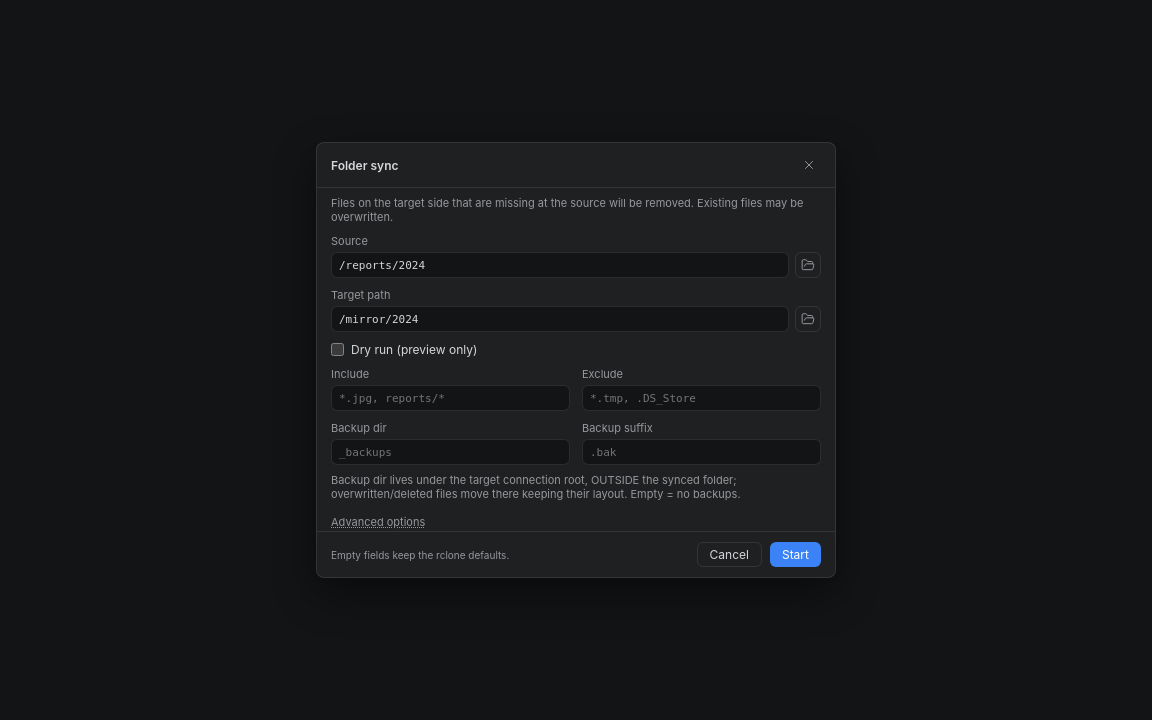
SyncDialog › picks source and target paths through the shared directory browser
The width and height of the screenshot is (1152, 720).
// 打开源字段选择器：内嵌浏览器出现，从源路径父目录起步（stub 不校验）。
Click the 1st button with class "wb-sync-browse" at (808,265), box [795,252,821,278]
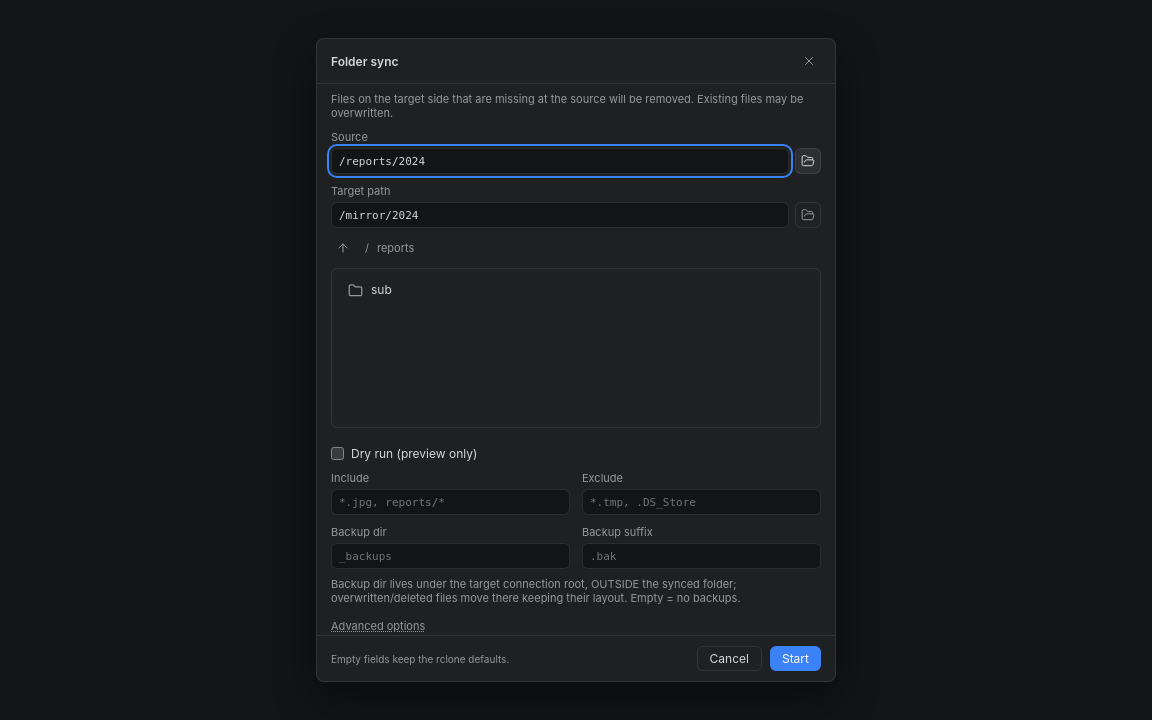
Expected: the element with class "wb-mount-list" is shown, [331,268,821,428]
Click the button with class "wb-mount-dir" at (356,290), box [338,275,814,305]
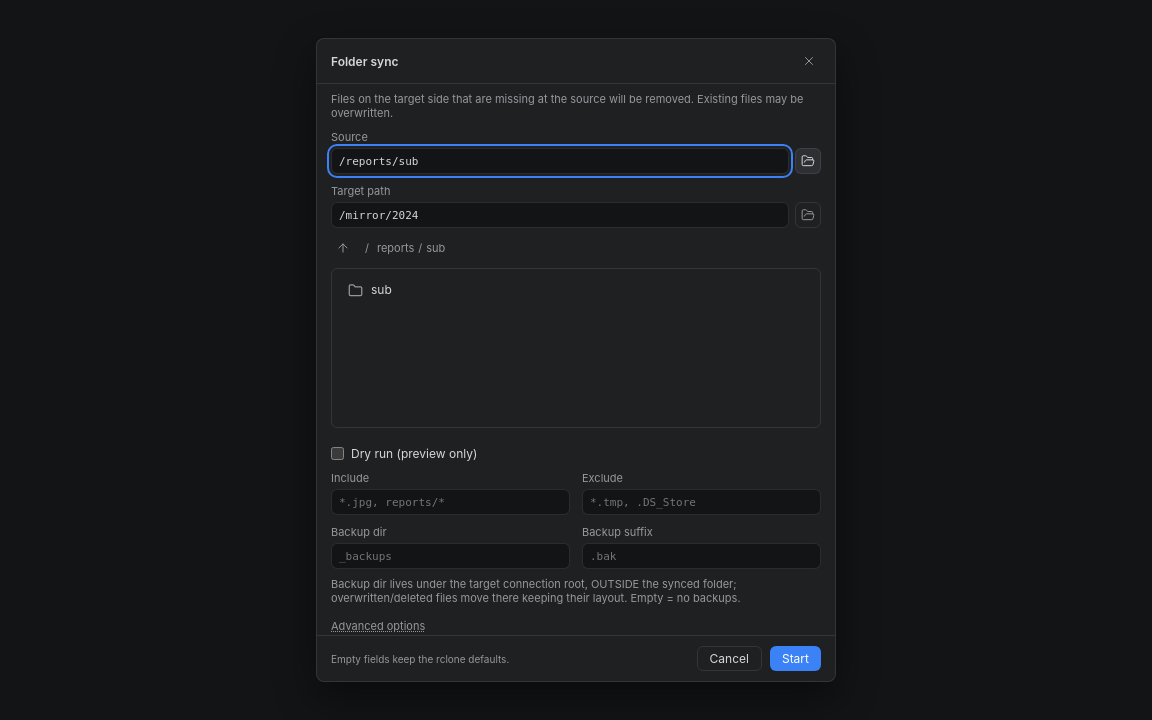
Expected: the field named "Source" holds "/reports/sub", [331,148,789,174]
// 再点同一按钮收起；换绑目标字段后导航回填目标输入框。
Click the 1st button with class "wb-sync-browse" at (808,161), box [795,148,821,174]
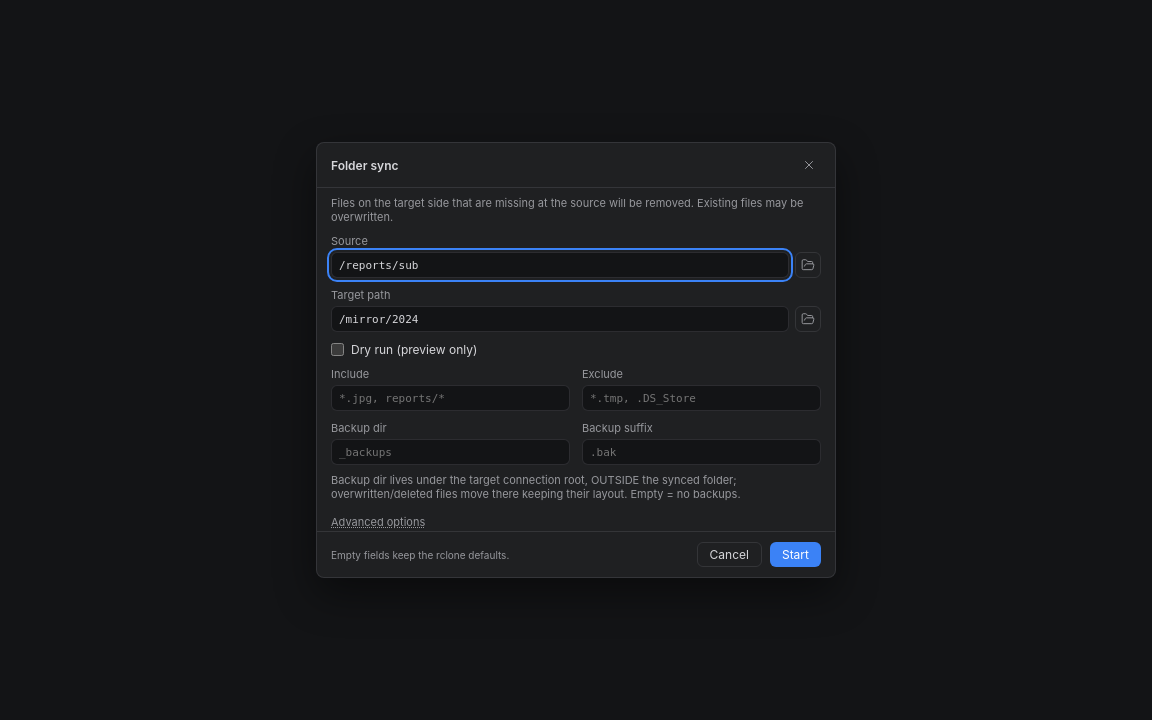
Click the 2nd button with class "wb-sync-browse" at (808,319), box [795,306,821,332]
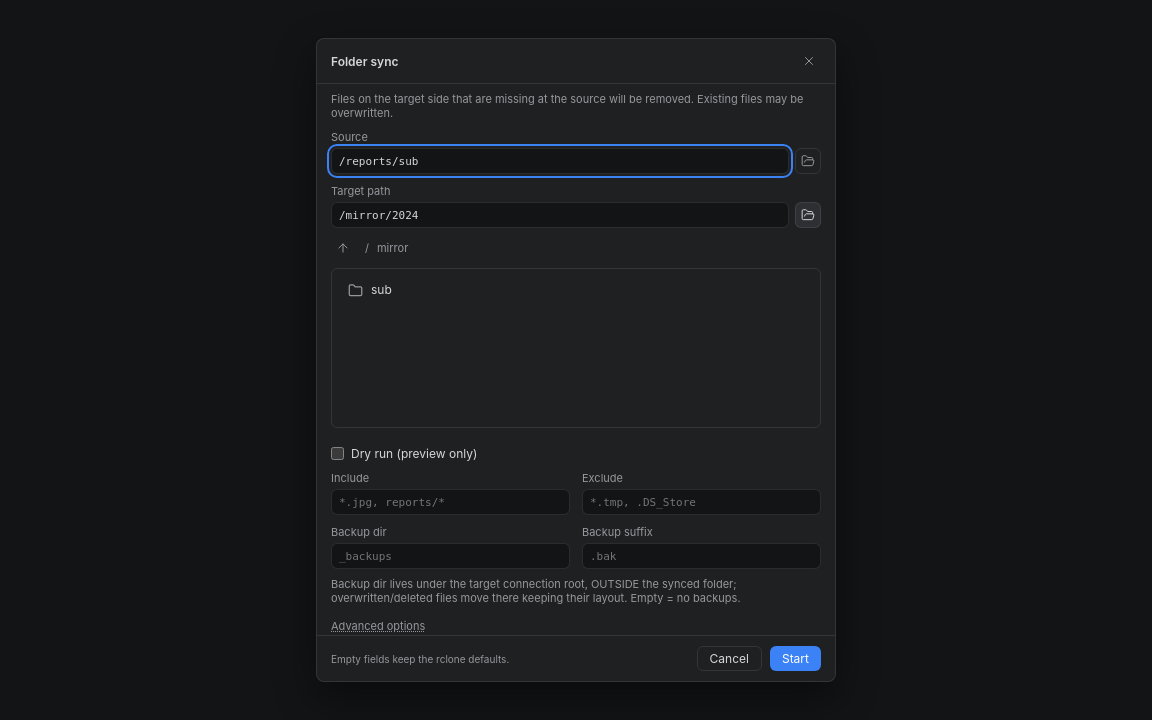
Click the button with class "wb-mount-dir" at (356,290), box [338,275,814,305]
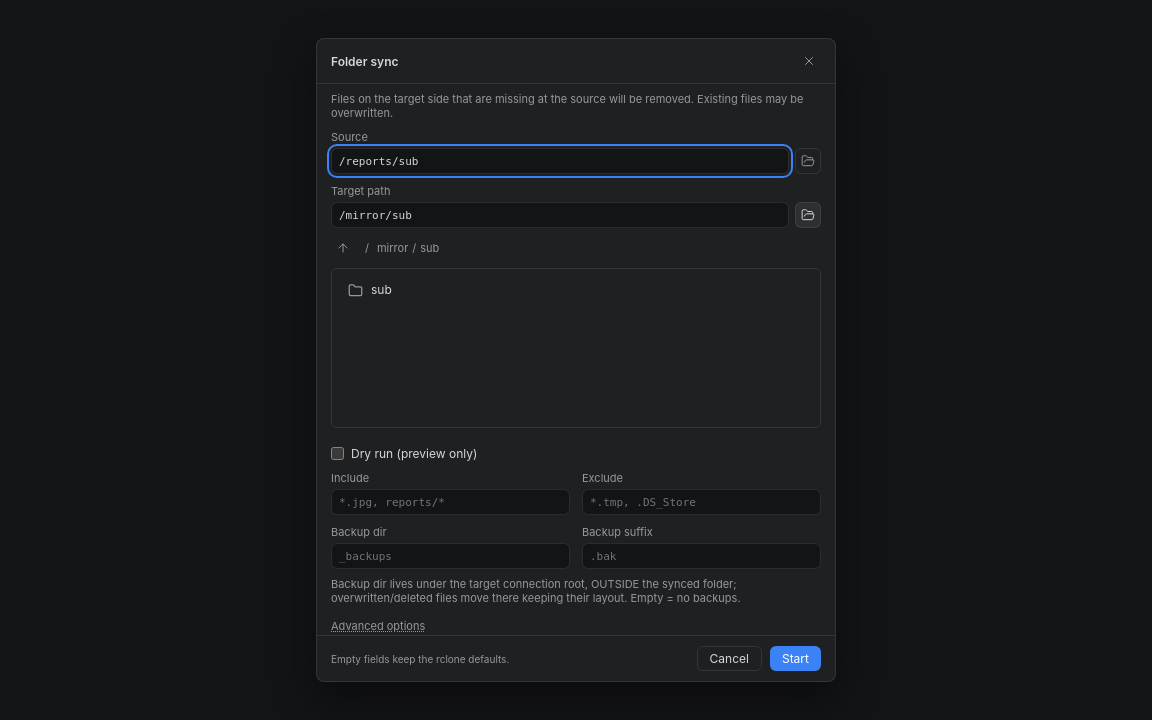
Expected: the field named "Target path" holds "/mirror/sub", [331,202,789,228]
